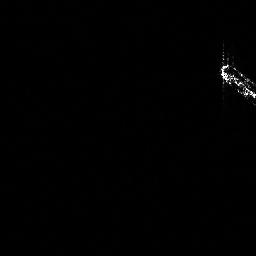ship: (215, 59, 256, 107)
